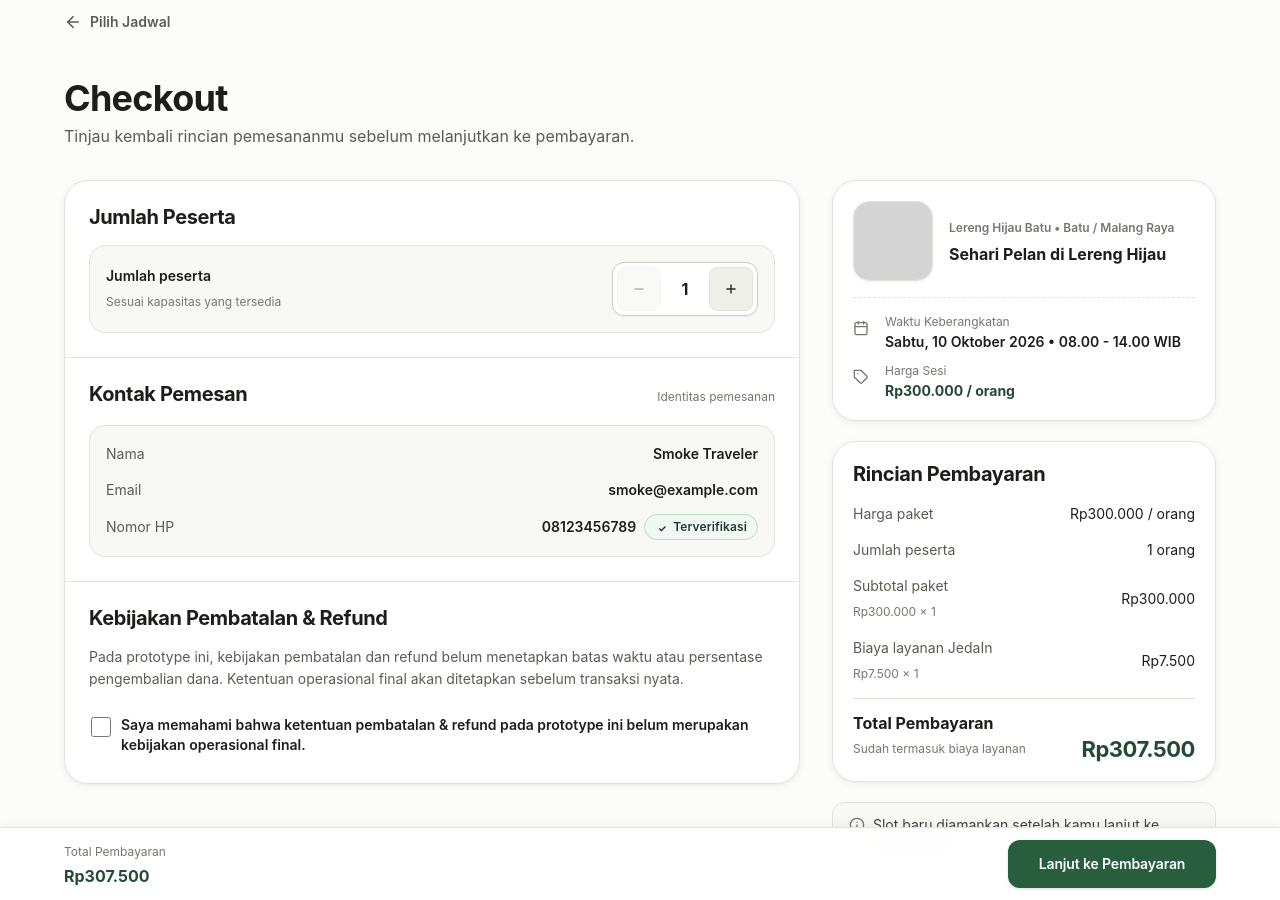
Test case: F2 Judge Clarity Manual Smoke Automated Checks › Traveler smoke part 2: Checkout verifies unchanged Rp7.500 fee, truthful acknowledgement, and no commission
This screenshot has width=1280, height=900.
Check: the checkbox with id "cancellation-policy-ack" is not checked, box [91,717,111,737]
Click the button "Lanjut ke Pembayaran" at [1112, 864], box [1008,840,1216,888]
(page scrolled)
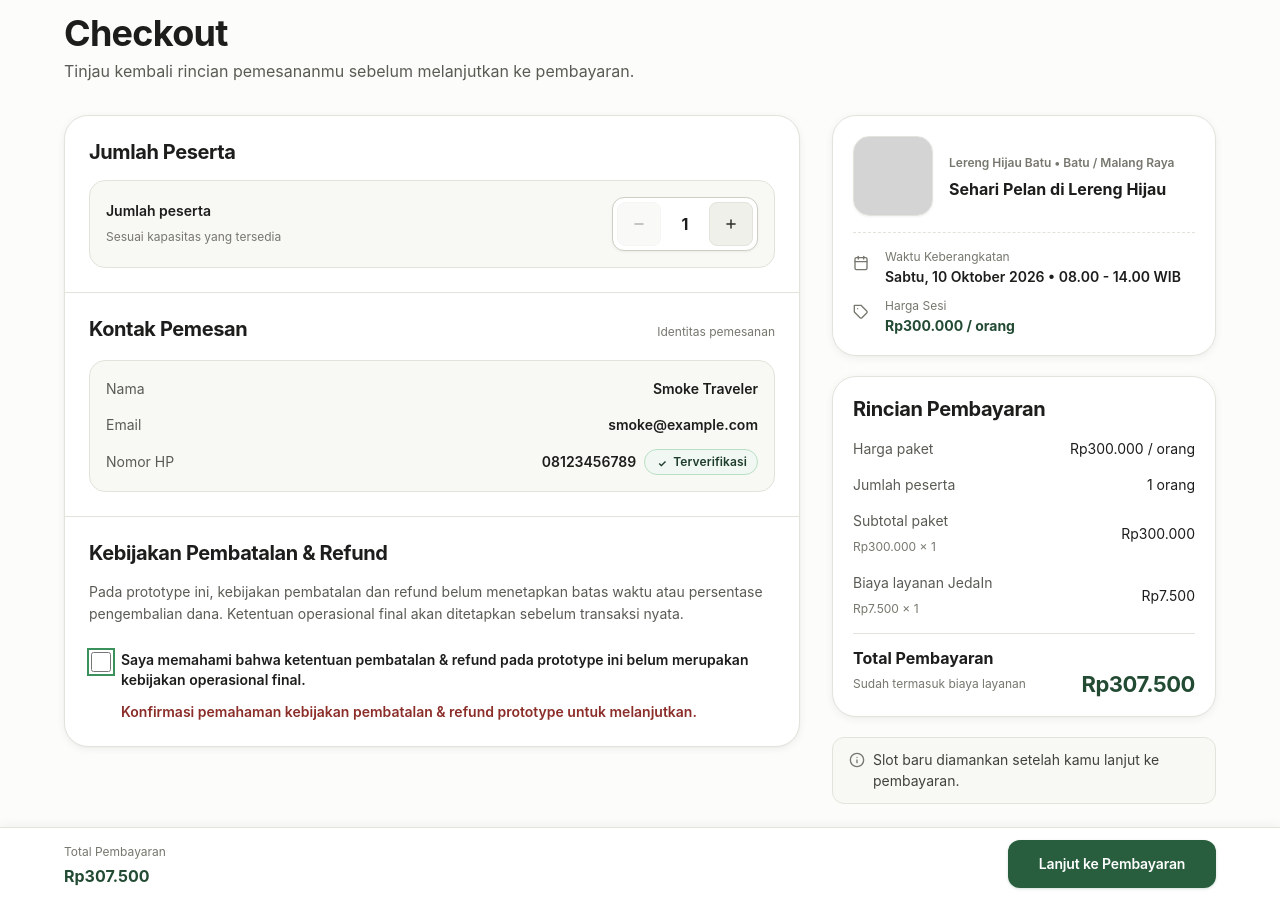
Check: the text "Konfirmasi pemahaman kebijakan pembatalan & refund prototype untuk melanjutkan." is shown, box [121,702,775,722]
// Verify checking allows proceeding
Click the checkbox with id "cancellation-policy-ack" at [101, 662], box [91,652,111,672]
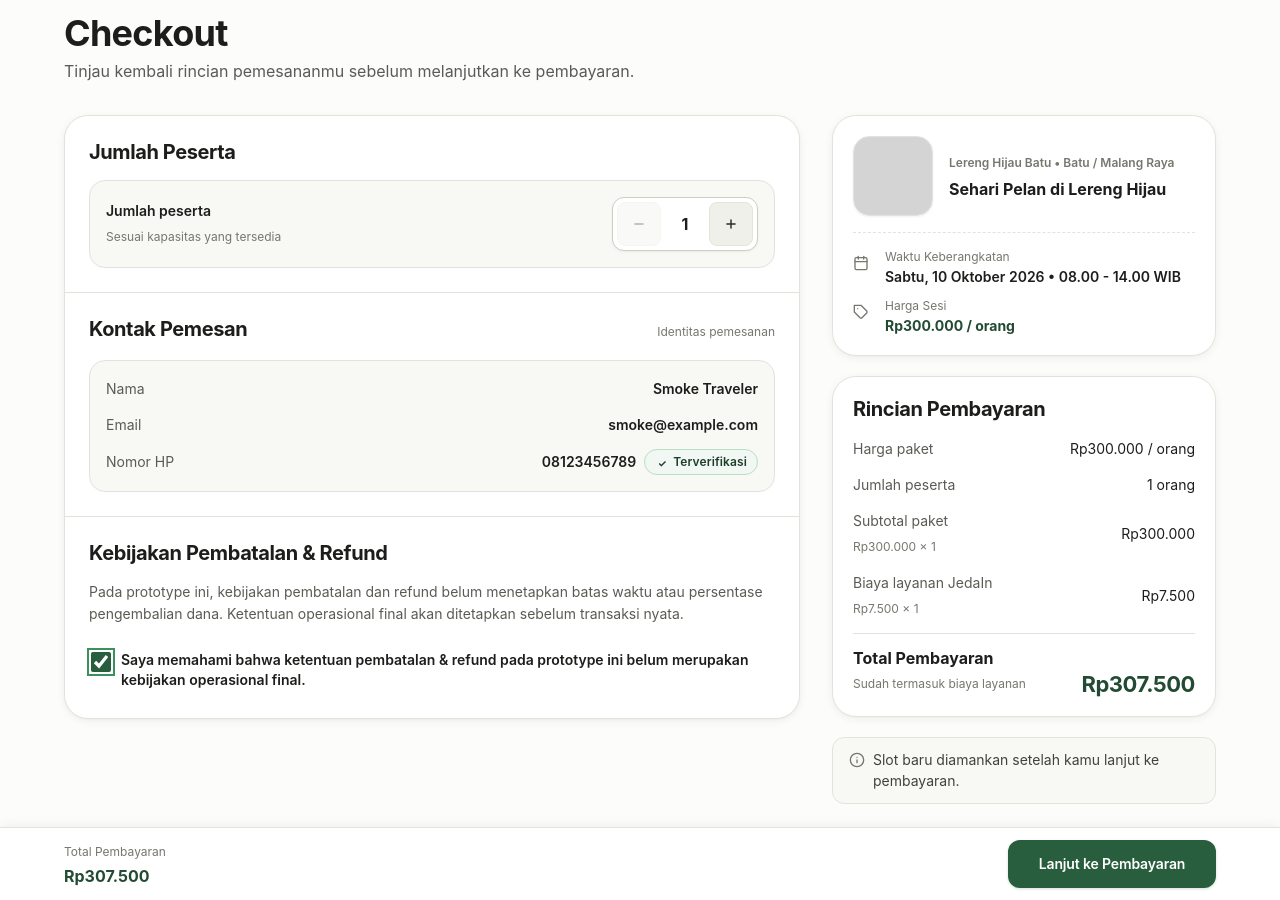
Check: the checkbox with id "cancellation-policy-ack" is checked, box [91,652,111,672]
Check: the text "Konfirmasi pemahaman kebijakan pembatalan & refund prototype untuk melanjutkan." is gone
